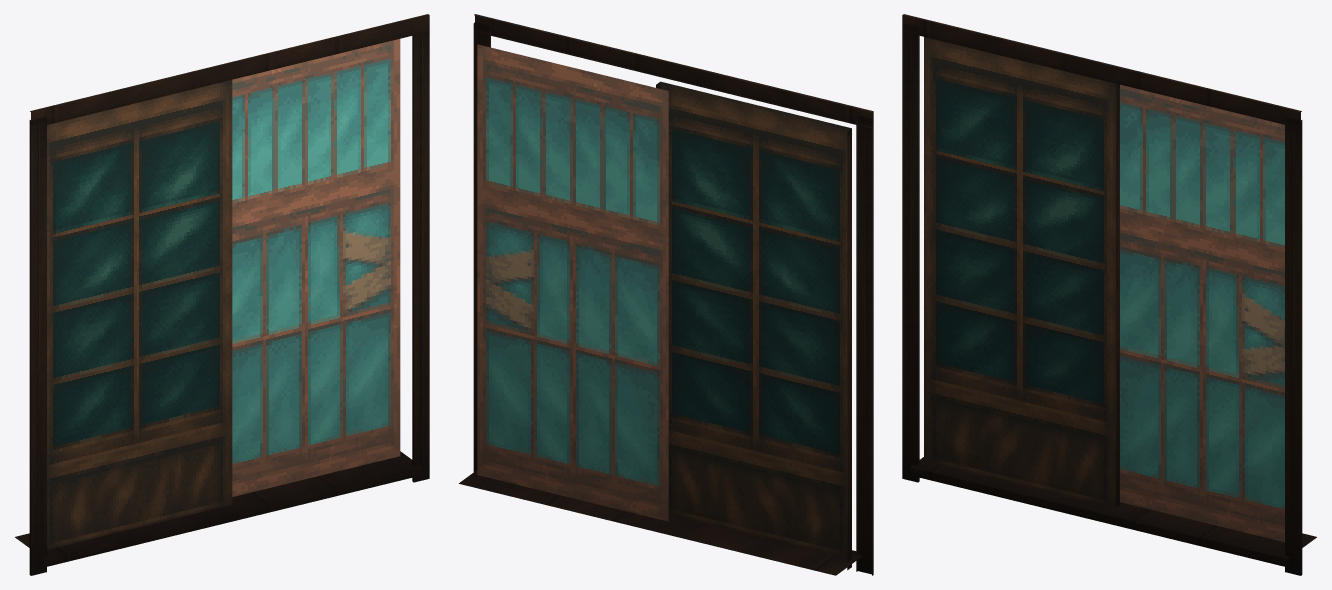
The model's file is prop_sash-14-16-3.glb.
3 views of the same model, side by side, from view 1: azimuth 30°, elevation 25°; view 2: azimuth 150°, elevation 25°; view 3: azimuth 330°, elevation 25° (orthographic).
Parts seen in each view (by area): view 1: prop_sash-14-16-3; view 2: prop_sash-14-16-3; view 3: prop_sash-14-16-3.
Part boxes in pixels (x1,y1,x2,y2): prop_sash-14-16-3: [15, 14, 429, 575]; prop_sash-14-16-3: [459, 14, 873, 575]; prop_sash-14-16-3: [902, 14, 1316, 575].
Size of the model in its own units: 1.52 by 1.69 by 0.2.
3 materials, 3 textured.
